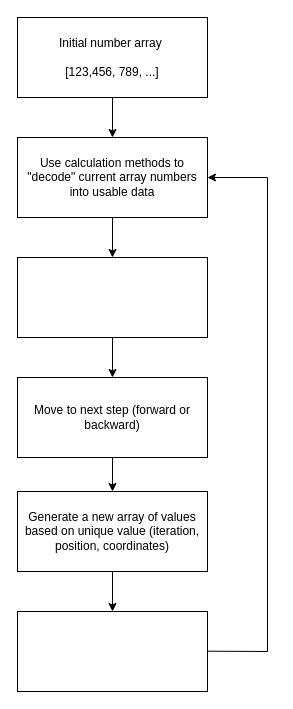
Image size: 293x709. Some labels were removed from this diagram. Here are the shapes that lost their labels. From the top down, the centre of each, then its label:
(112,297): Create data based on decoded values
(112,651): Delete old array
